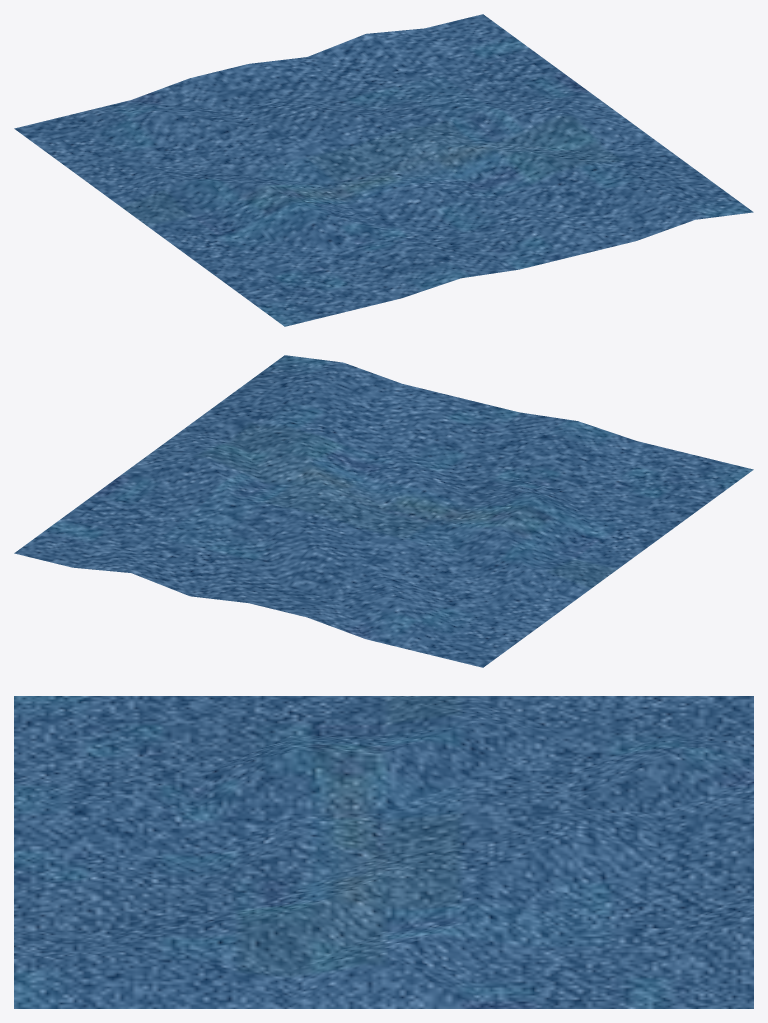
The model's file is beach plane.fbx.
The picture shows the model from 3 angles, top to bottom: view 1: azimuth 30°, elevation 25°; view 2: azimuth 150°, elevation 25°; view 3: azimuth 270°, elevation 25°; orthographic projection. The views are drawn at different scales.
Visible parts, largest first — view 1: pPlane1; view 2: pPlane1; view 3: pPlane1.
Boxes of the visible parts, left/top/right/bottom form: pPlane1: left=14, top=14, right=753, bottom=326; pPlane1: left=14, top=355, right=753, bottom=667; pPlane1: left=14, top=696, right=753, bottom=1008.
Bounding box in the file's own units: 9.03 × 0.366 × 9.03.
1 material, 1 textured.
